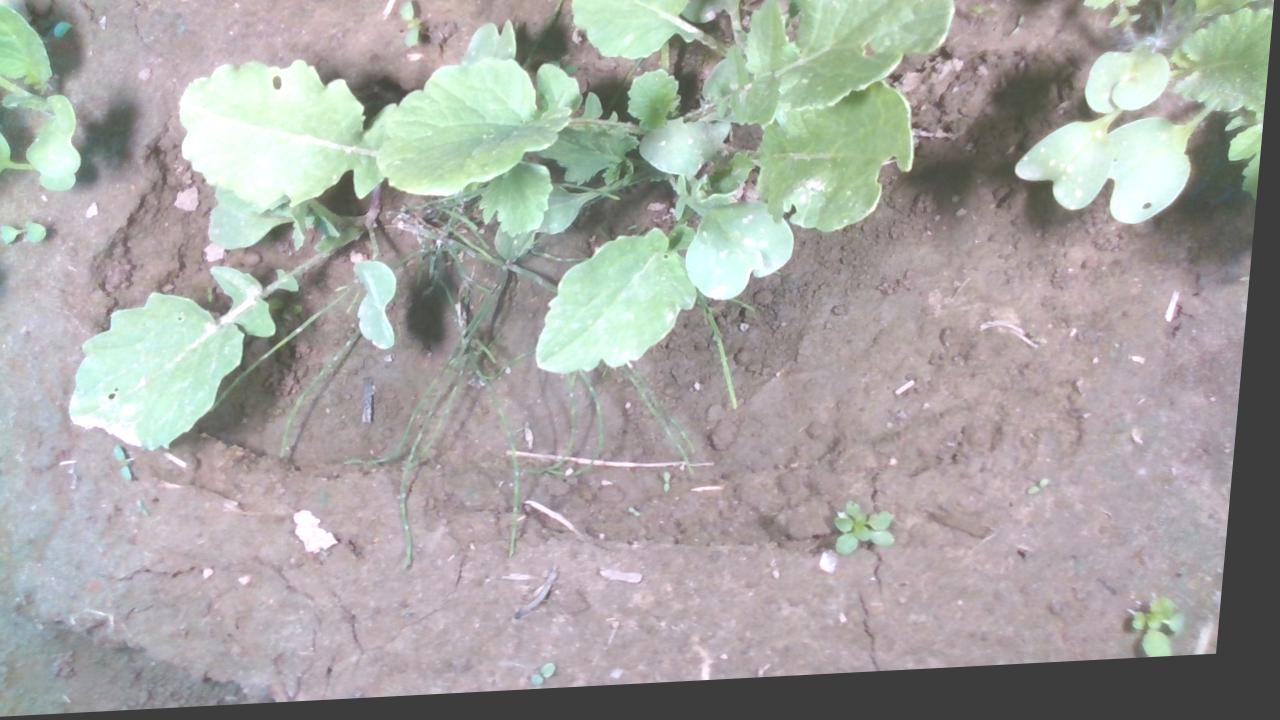weed: (395, 2, 423, 53), (0, 219, 51, 243), (119, 446, 142, 484), (541, 667, 568, 692), (1037, 486, 1059, 506), (0, 451, 10, 481), (669, 475, 681, 500), (0, 579, 0, 607)
